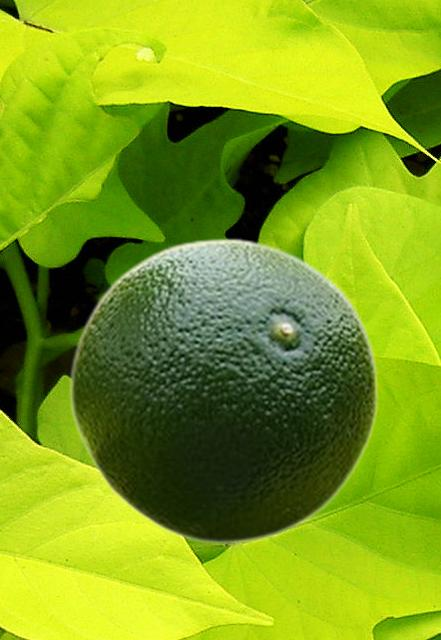calamansi: (68, 237, 379, 543)
